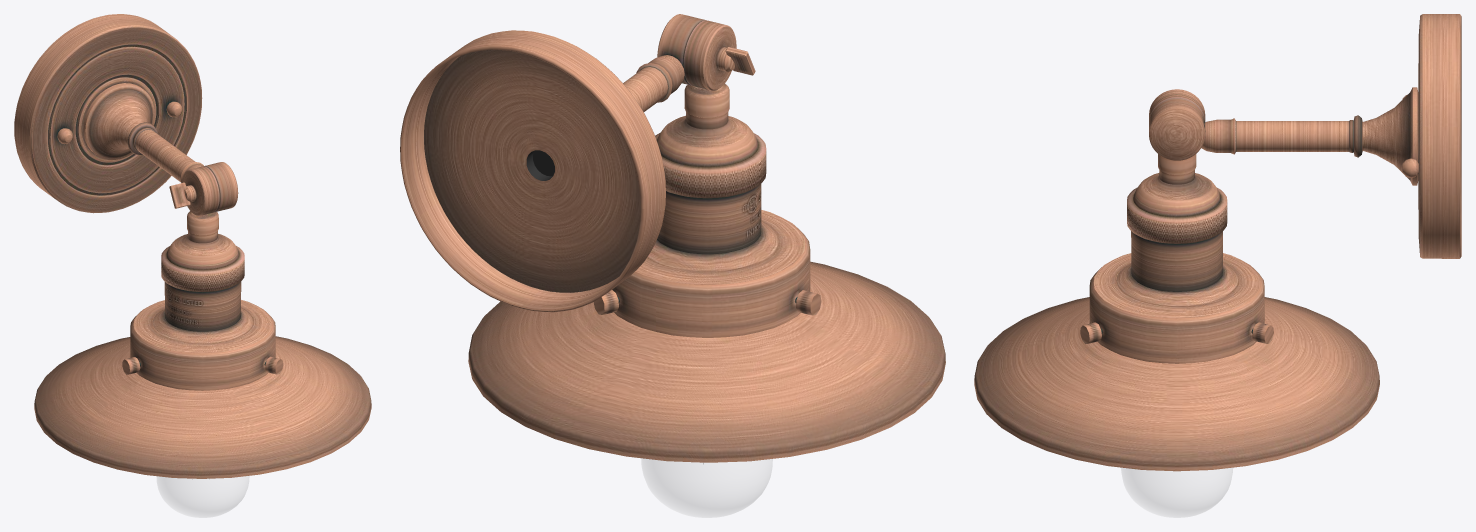
The model's file is AnisotropyBarnLamp.glb.
3 renders of one model, left to right at view 1: azimuth 30°, elevation 25°; view 2: azimuth 150°, elevation 25°; view 3: azimuth 270°, elevation 25°, orthographic. The views are drawn at different scales.
Visible parts, largest first — view 1: lamp, lamp glass; view 2: lamp, lamp glass; view 3: lamp, lamp glass.
Part boxes in pixels (x1=…): lamp: x1=14, y1=14, x2=371, y2=479; lamp glass: x1=157, y1=476, x2=249, y2=517; lamp: x1=400, y1=14, x2=945, y2=464; lamp glass: x1=641, y1=458, x2=772, y2=517; lamp: x1=974, y1=14, x2=1461, y2=471; lamp glass: x1=1121, y1=468, x2=1232, y2=517.
Bounding box in the file's own units: 0.1908 × 0.2552 × 0.2265.
Materials: 3 (1 with a texture image).
